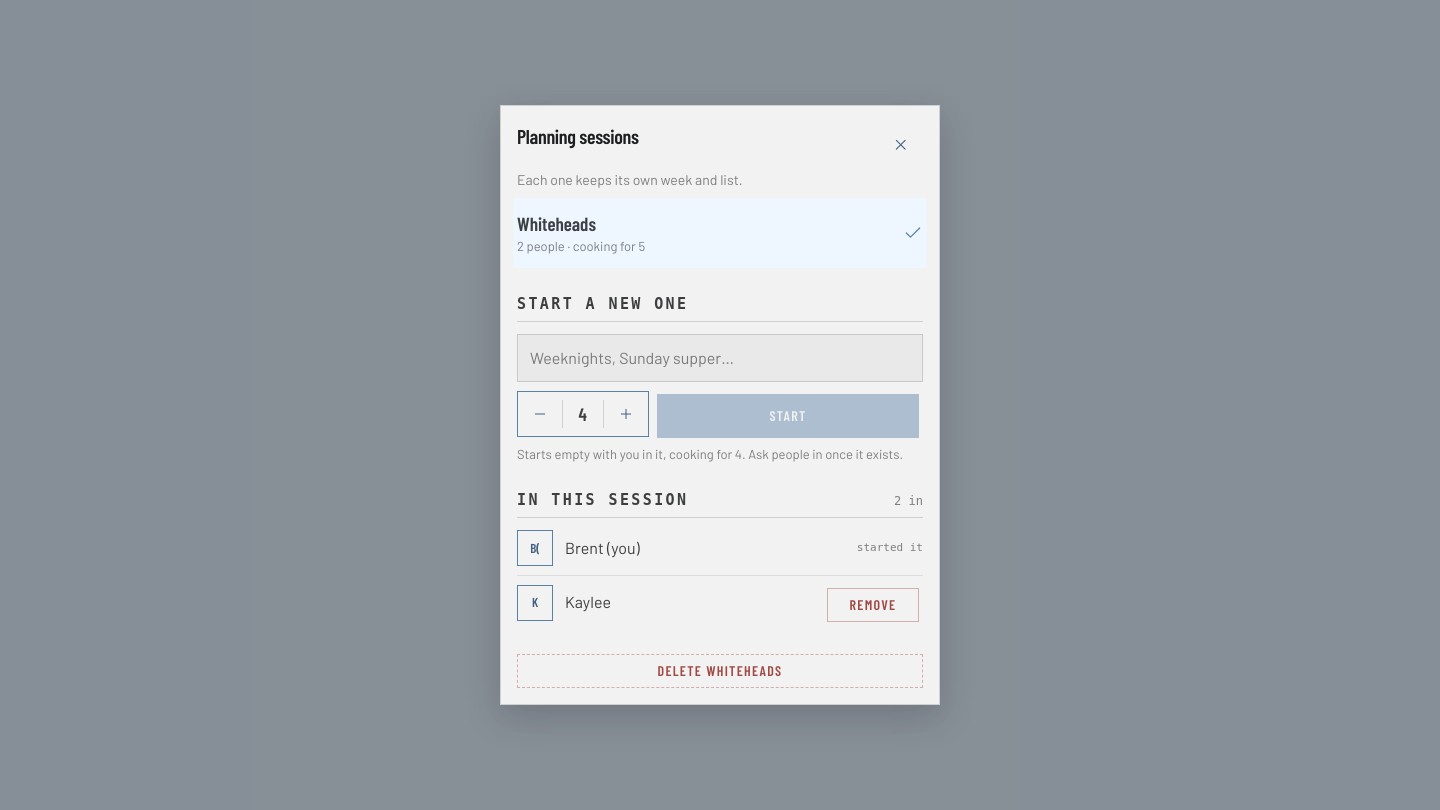
taking somebody out › asks before doing it, and does nothing on the first tap
Click the button with aria-label "take kaylee out": (873, 605) [827,588,919,622]
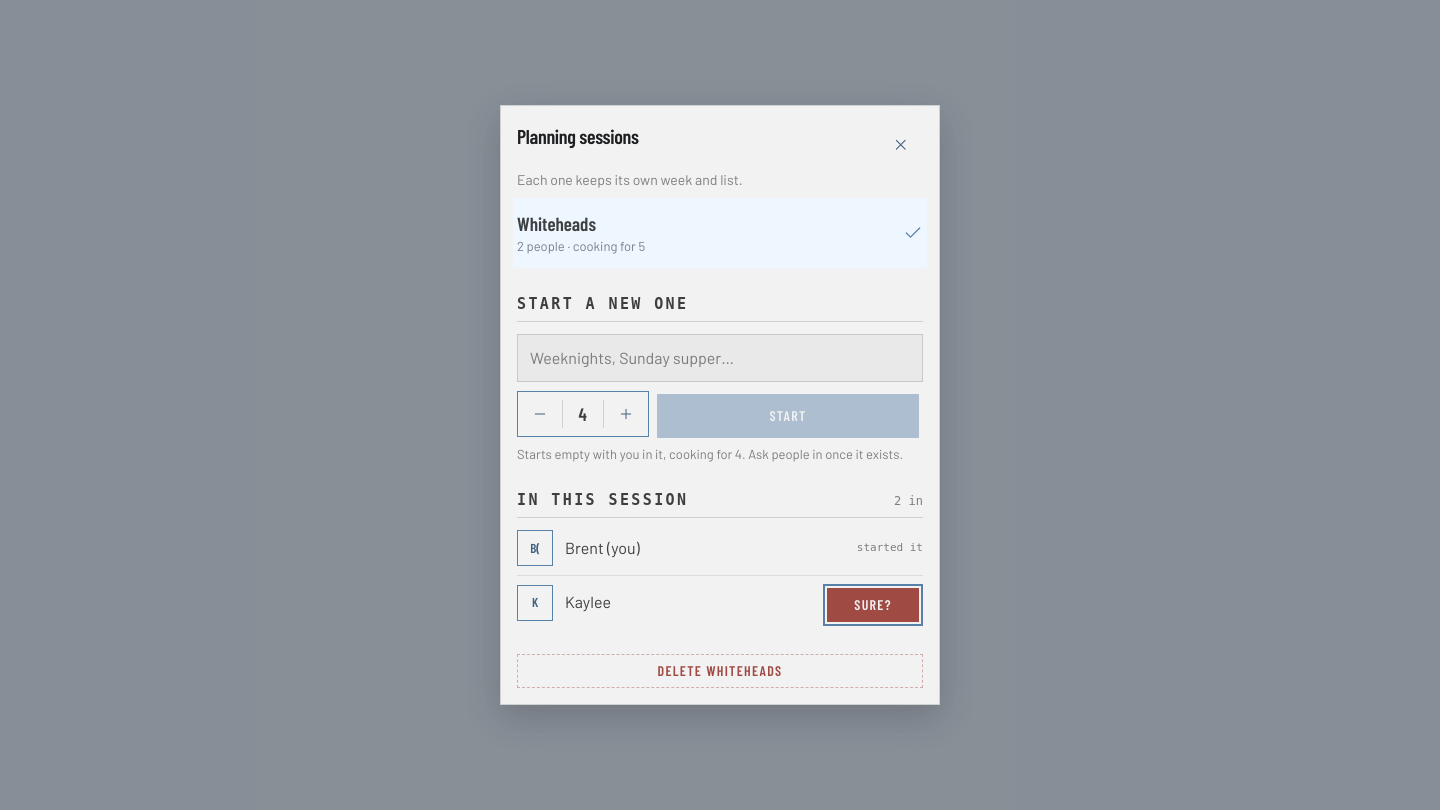
Check: the button with aria-label "confirm taking kaylee out" is shown, box [827,588,919,622]
